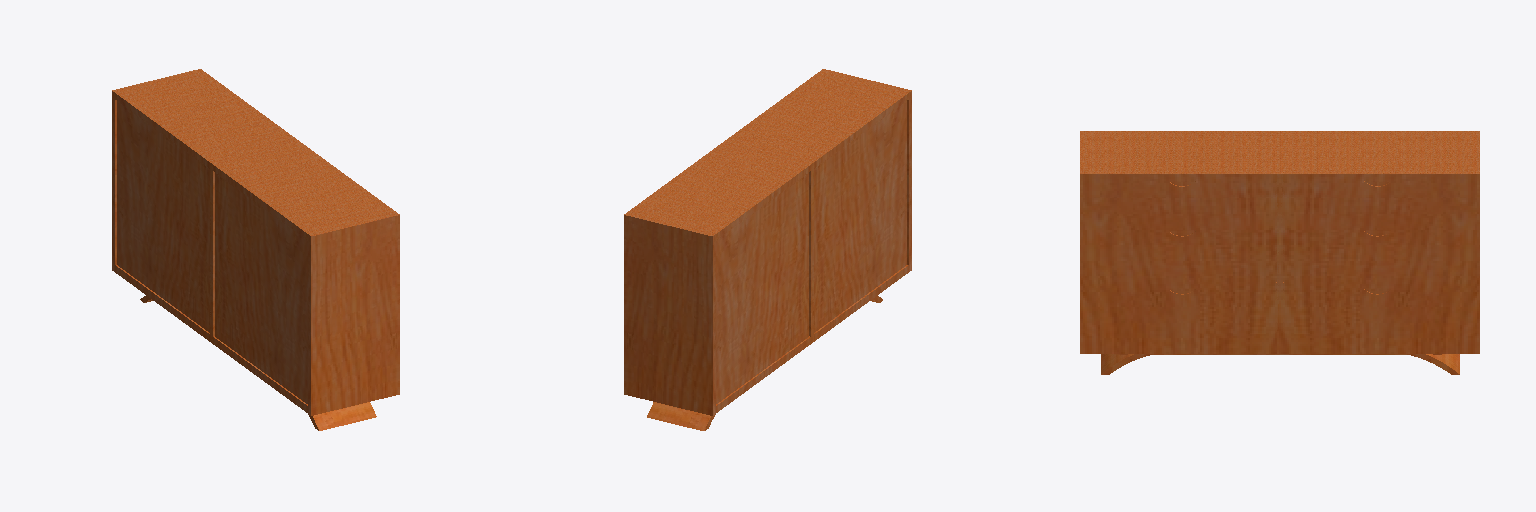
The picture shows the model from 3 angles: view 1: azimuth 30°, elevation 25°; view 2: azimuth 150°, elevation 25°; view 3: azimuth 270°, elevation 25°; orthographic projection.
Visible parts, largest first — view 1: Mesh1_Component_3_1_Model.001; view 2: Mesh1_Component_3_1_Model.001; view 3: Mesh1_Component_3_1_Model.001.
Part boxes in pixels (x1,y1,x2,y2): Mesh1_Component_3_1_Model.001: (112, 69, 399, 430); Mesh1_Component_3_1_Model.001: (624, 69, 911, 430); Mesh1_Component_3_1_Model.001: (1080, 131, 1479, 374).
Size of the model in its own units: 0.45 by 1 by 1.75.
Materials: 1 (1 with a texture image).